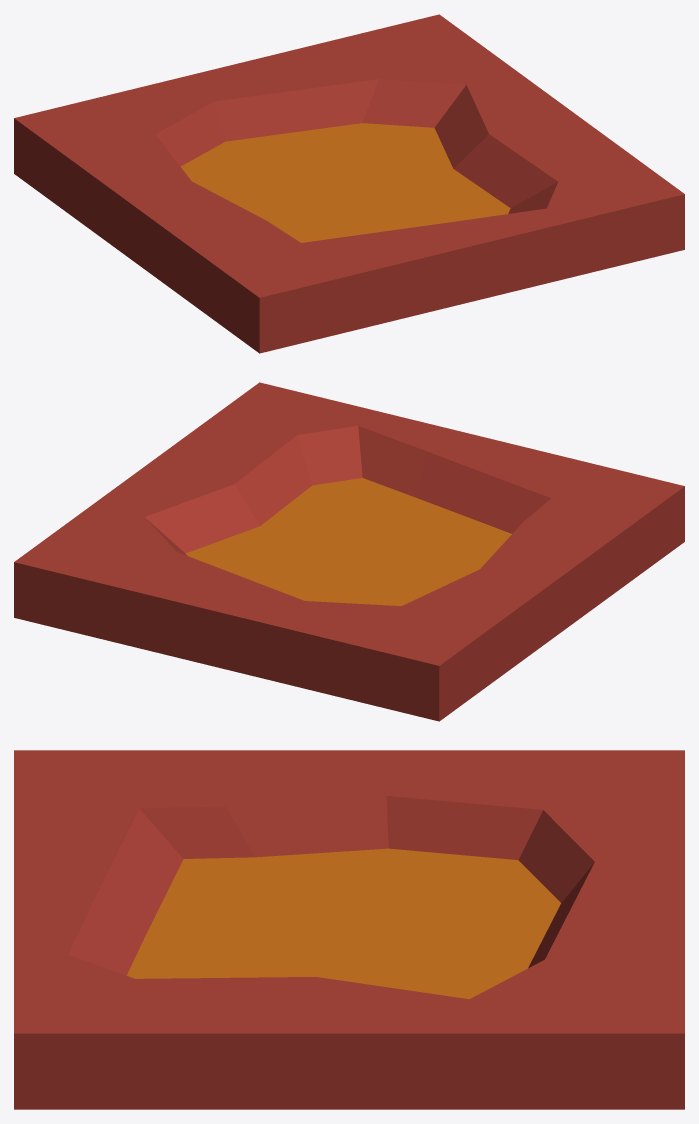
File: Field_2_digged_v2.fbx
3 renders of one model, top to bottom at view 1: azimuth 30°, elevation 25°; view 2: azimuth 150°, elevation 25°; view 3: azimuth 270°, elevation 25°, orthographic. The views are drawn at different scales.
Visible parts, largest first — view 1: Plane.028; view 2: Plane.028; view 3: Plane.028.
Boxes of the visible parts, bbox=[...] form: Plane.028: bbox=[14, 14, 684, 353]; Plane.028: bbox=[14, 382, 684, 721]; Plane.028: bbox=[14, 750, 684, 1109].
Bounding box in the file's own units: 400 × 50 × 400.
